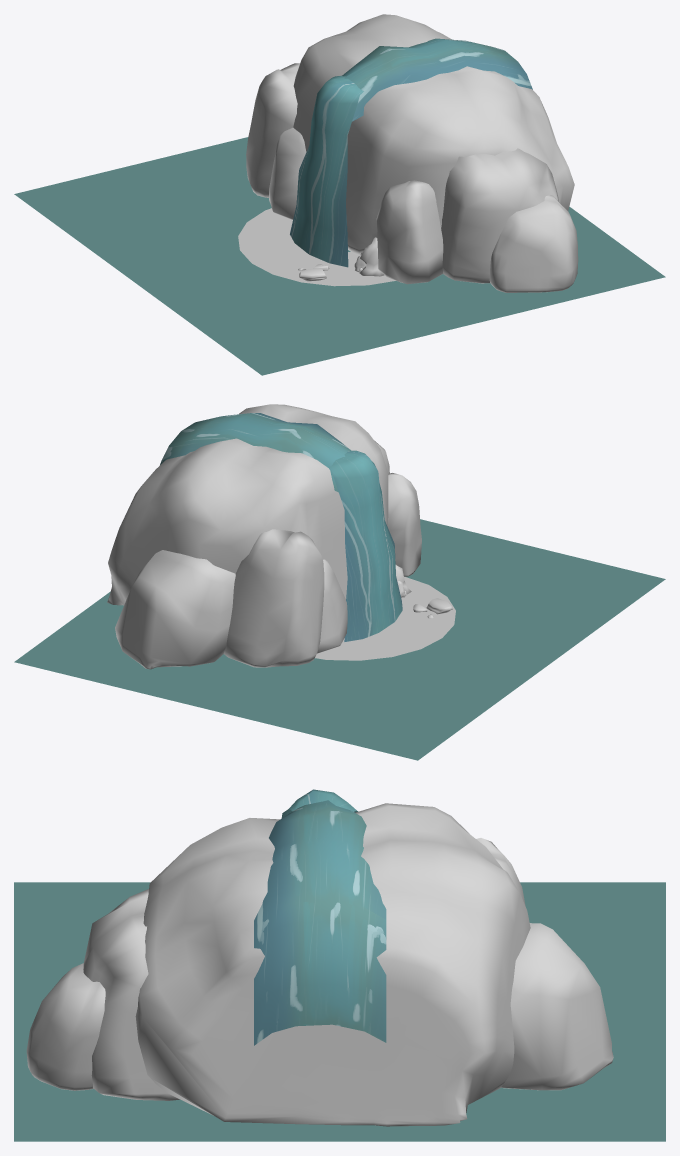
Rendered from whole single waterfall cliff combined.fbx.
3 views of the same model, one above another, from view 1: azimuth 30°, elevation 25°; view 2: azimuth 150°, elevation 25°; view 3: azimuth 270°, elevation 25° (orthographic). The views are drawn at different scales.
Visible parts, largest first — view 1: waterfall_cliff_whole_combined; view 2: waterfall_cliff_whole_combined; view 3: waterfall_cliff_whole_combined.
Part boxes in pixels (x1,y1,x2,y2): waterfall_cliff_whole_combined: (14, 14, 665, 375); waterfall_cliff_whole_combined: (14, 404, 665, 760); waterfall_cliff_whole_combined: (14, 789, 665, 1141).
Size of the model in its own units: 78.55 by 33.23 by 83.55.
